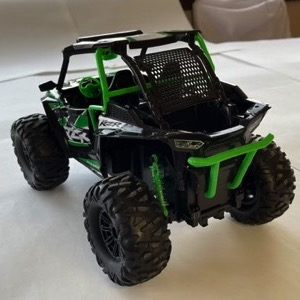polaris: (11, 26, 297, 289)
